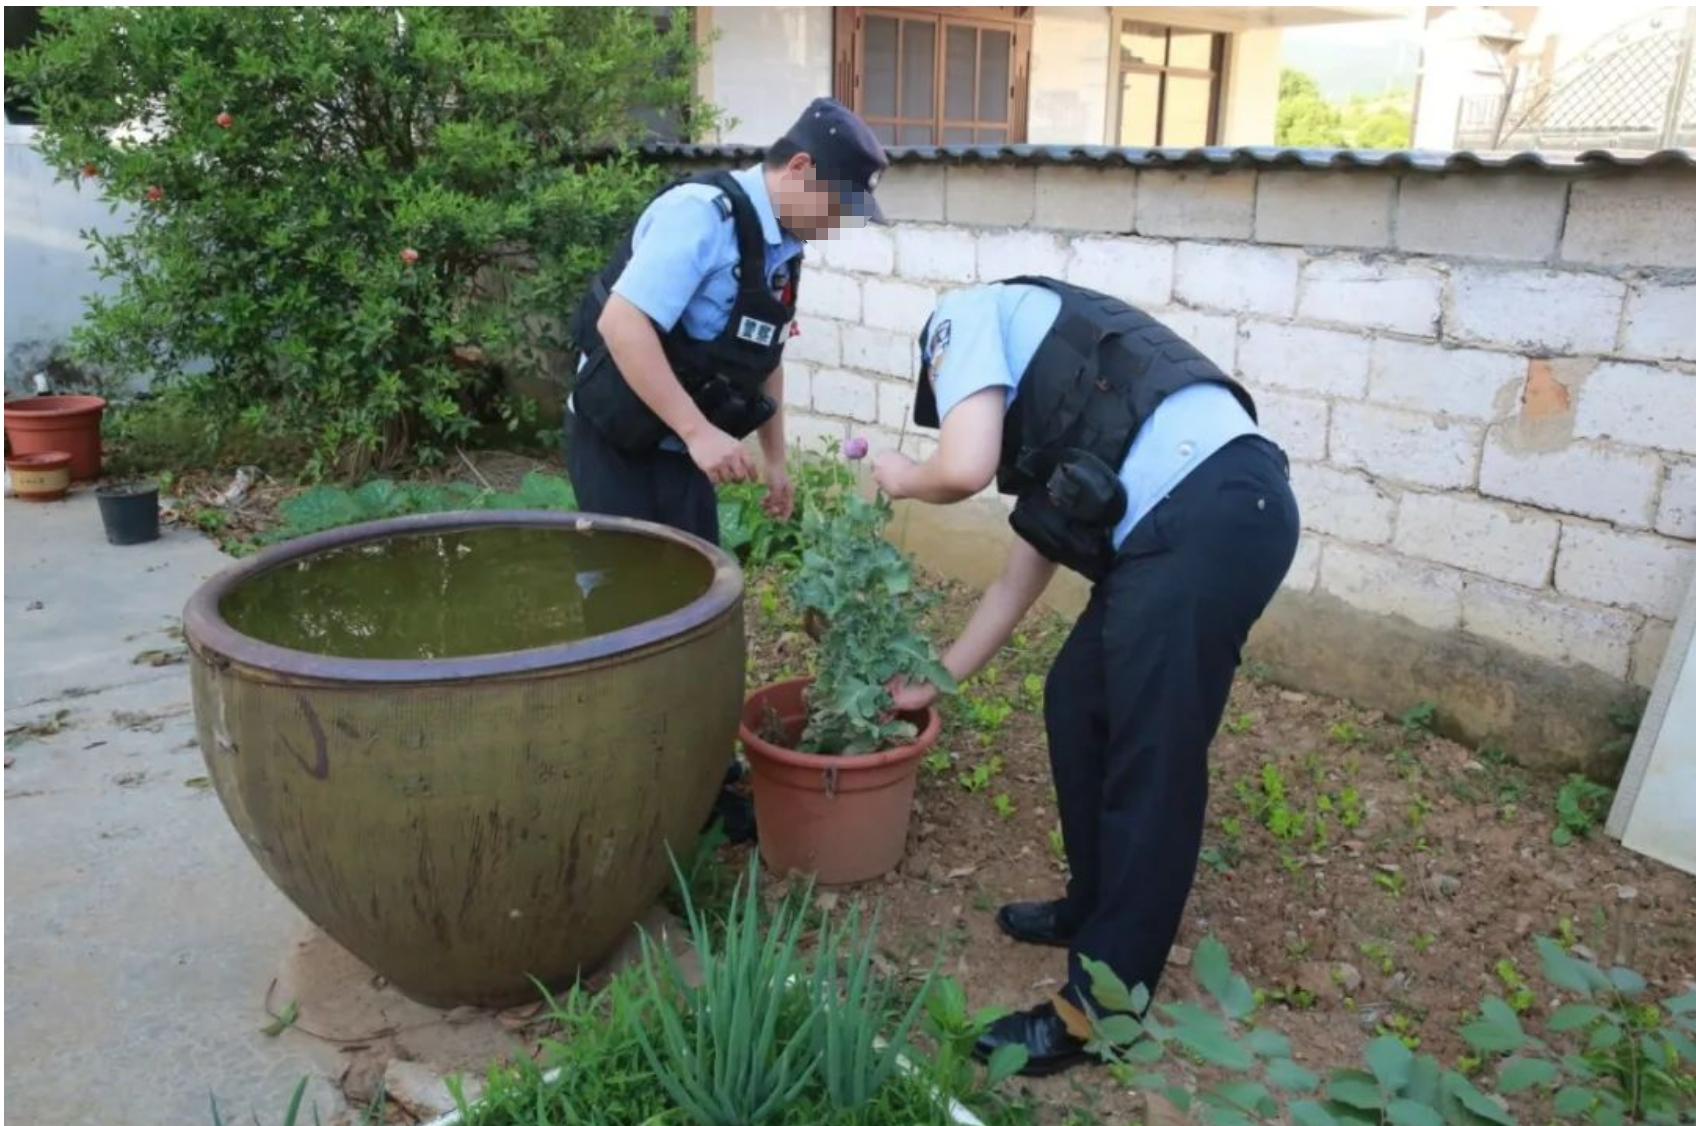Poppy: (761, 415, 943, 762)
